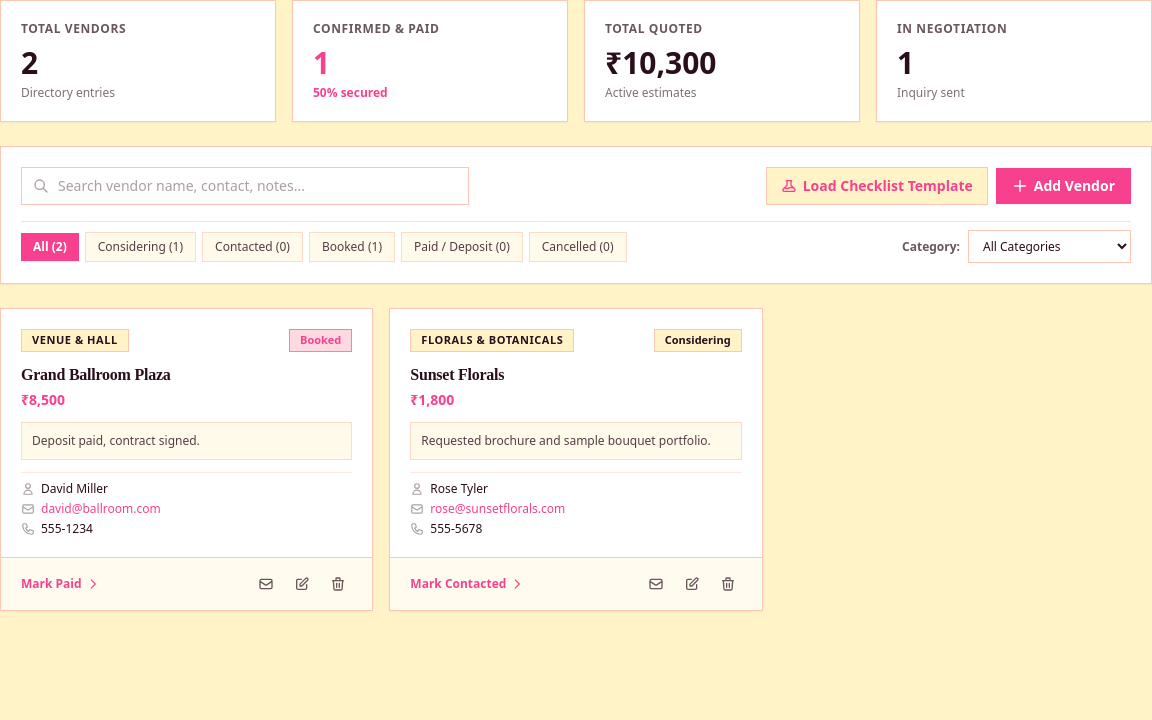
Test case: VendorTracker Component › filters vendors by status tabs and search query
The width and height of the screenshot is (1152, 720).
expect the heading "Grand Ballroom Plaza" is shown: met, box [21,366,171,382]
expect the heading "Sunset Florals" is shown: met, box [410,366,504,382]
Note: Filter by Considering
Click the button "Considering (1)" at [140, 246], box [85,232,196,262]
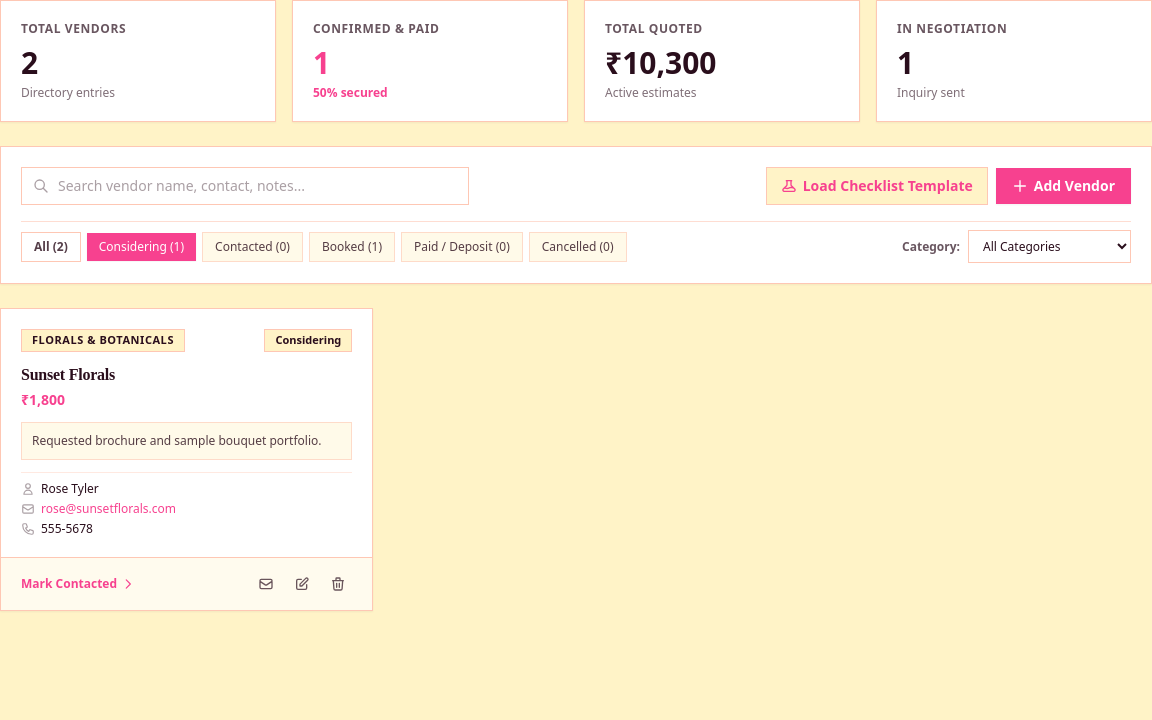
expect the heading "Sunset Florals" is shown: met, box [21,366,115,382]
expect the heading "Grand Ballroom Plaza" is gone: met
Note: Reset to All
Click the button "All (2)" at [51, 246], box [21,232,81,262]
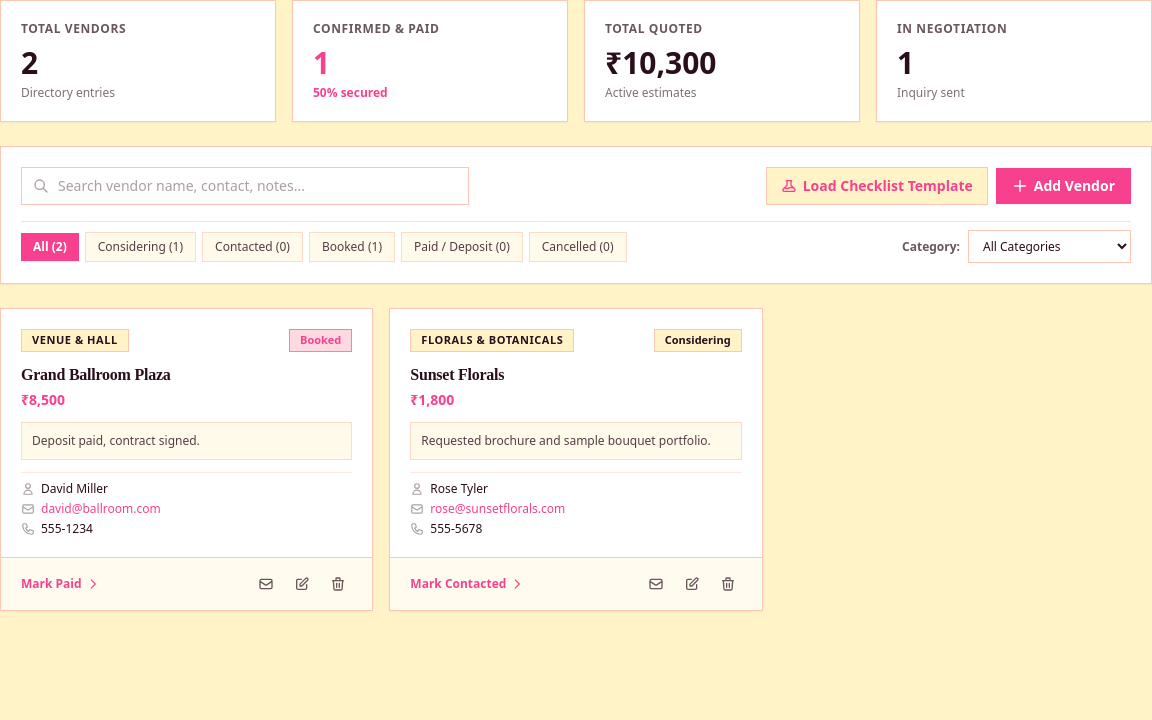
expect the heading "Grand Ballroom Plaza" is shown: met, box [21,366,171,382]
Note: Search query
Type "Ballroom" into the field named "search vendors" at [245, 186], box [21,167,469,205]
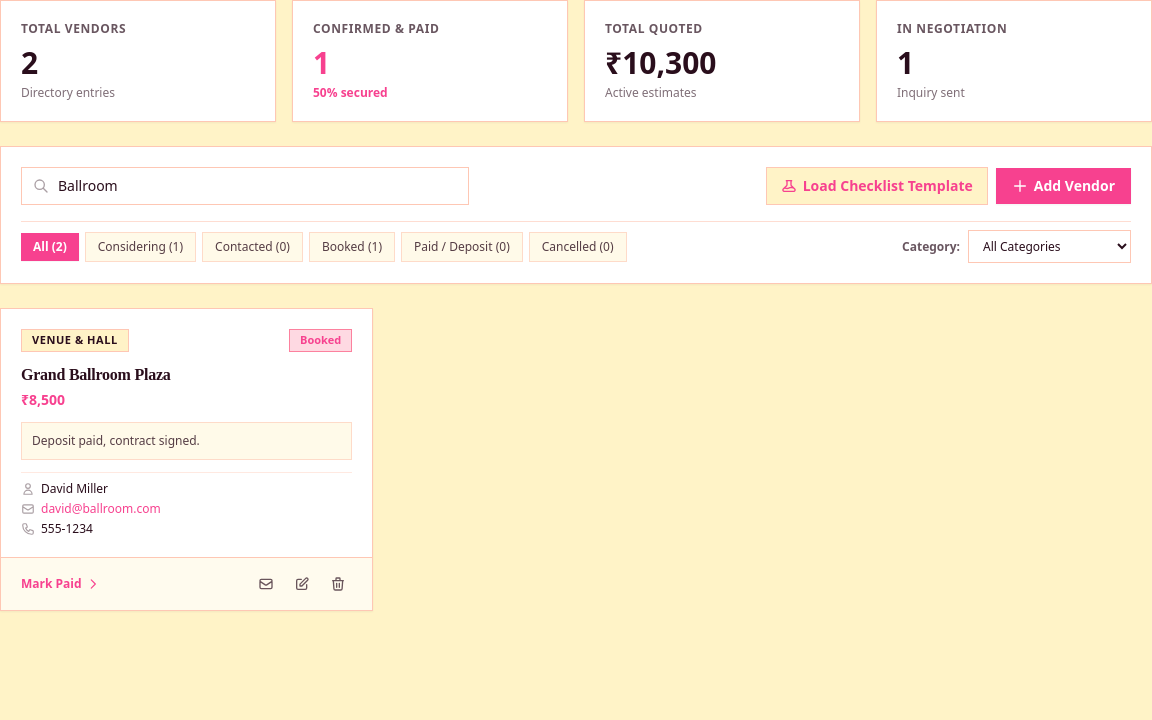
expect the heading "Grand Ballroom Plaza" is shown: met, box [21,366,171,382]
expect the heading "Sunset Florals" is gone: met
